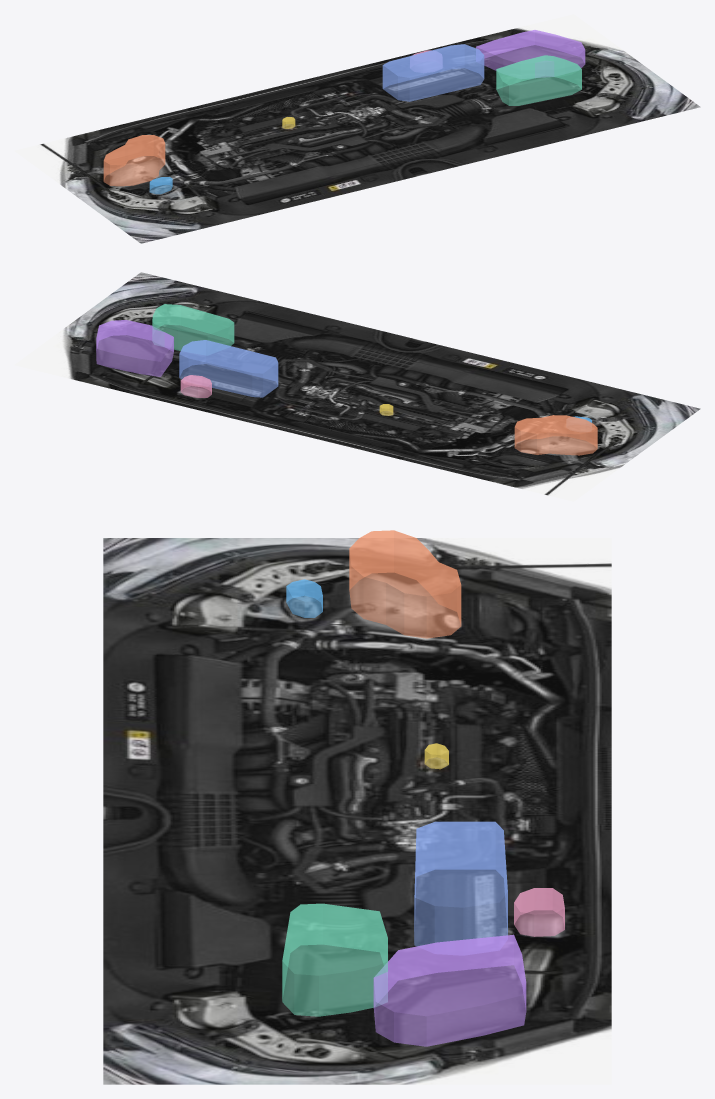
The model's file is toyota-corolla-2020-photo-reference-inspection.glb.
3 renders of one model, top to bottom at view 1: azimuth 30°, elevation 25°; view 2: azimuth 150°, elevation 25°; view 3: azimuth 270°, elevation 25°, orthographic. The views are drawn at different scales.
Visible parts, largest first — view 1: Source photograph, 12 V battery, Air filter housing, Fuse box, Coolant reservoir; view 2: Source photograph, 12 V battery, Fuse box, Coolant reservoir, Air filter housing, Brake fluid reservoir; view 3: Source photograph, Fuse box, 12 V battery, Air filter housing, Coolant reservoir, Brake fluid reservoir, Washer filler.
Boxes of the visible parts, left/top/right/bottom form: Source photograph: left=14, top=14, right=700, bottom=243; 12 V battery: left=382, top=44, right=484, bottom=101; Air filter housing: left=496, top=55, right=581, bottom=105; Fuse box: left=476, top=30, right=585, bottom=77; Coolant reservoir: left=103, top=135, right=165, bottom=186; Source photograph: left=14, top=272, right=700, bottom=501; 12 V battery: left=179, top=340, right=278, bottom=397; Fuse box: left=96, top=320, right=173, bottom=376; Coolant reservoir: left=514, top=415, right=597, bottom=455; Air filter housing: left=152, top=304, right=234, bottom=350; Brake fluid reservoir: left=180, top=375, right=211, bottom=397; Source photograph: left=103, top=538, right=611, bottom=1084; Fuse box: left=373, top=934, right=526, bottom=1046; 12 V battery: left=414, top=821, right=507, bottom=946; Air filter housing: left=282, top=903, right=387, bottom=1016; Coolant reservoir: left=349, top=530, right=461, bottom=638; Brake fluid reservoir: left=514, top=888, right=564, bottom=936; Washer filler: left=286, top=579, right=322, bottom=617.
Size of the model in its own units: 1 by 0.041 by 0.3931.
8 materials, 1 textured.
